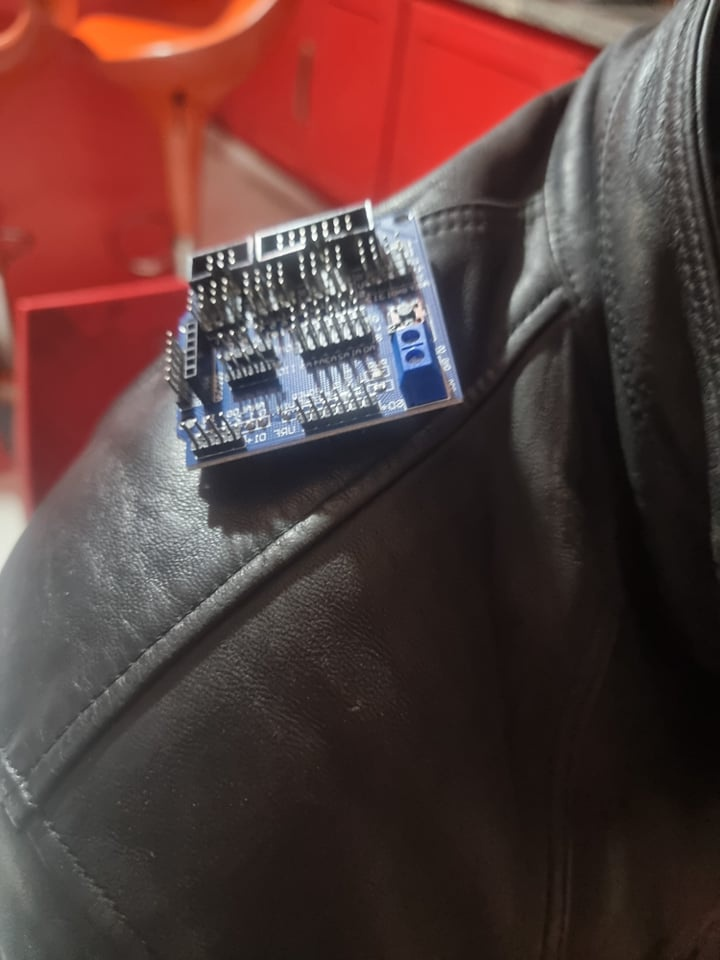5V EXPANSION: (159, 199, 469, 472)
